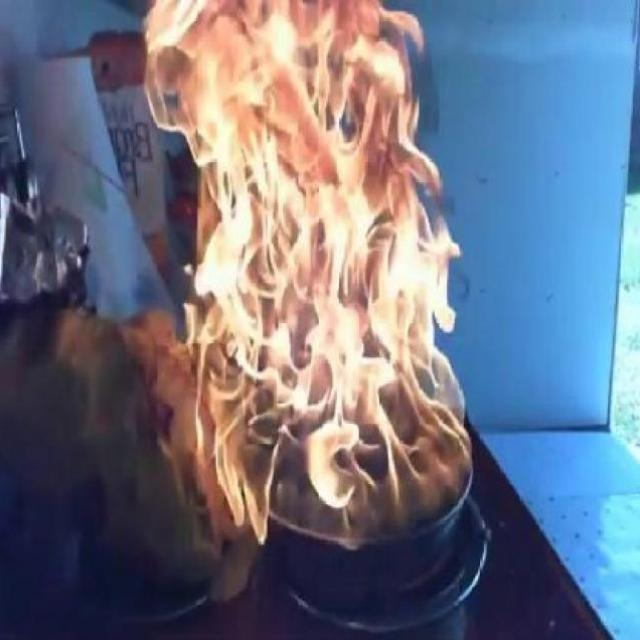smoke: (146, 5, 472, 550)
